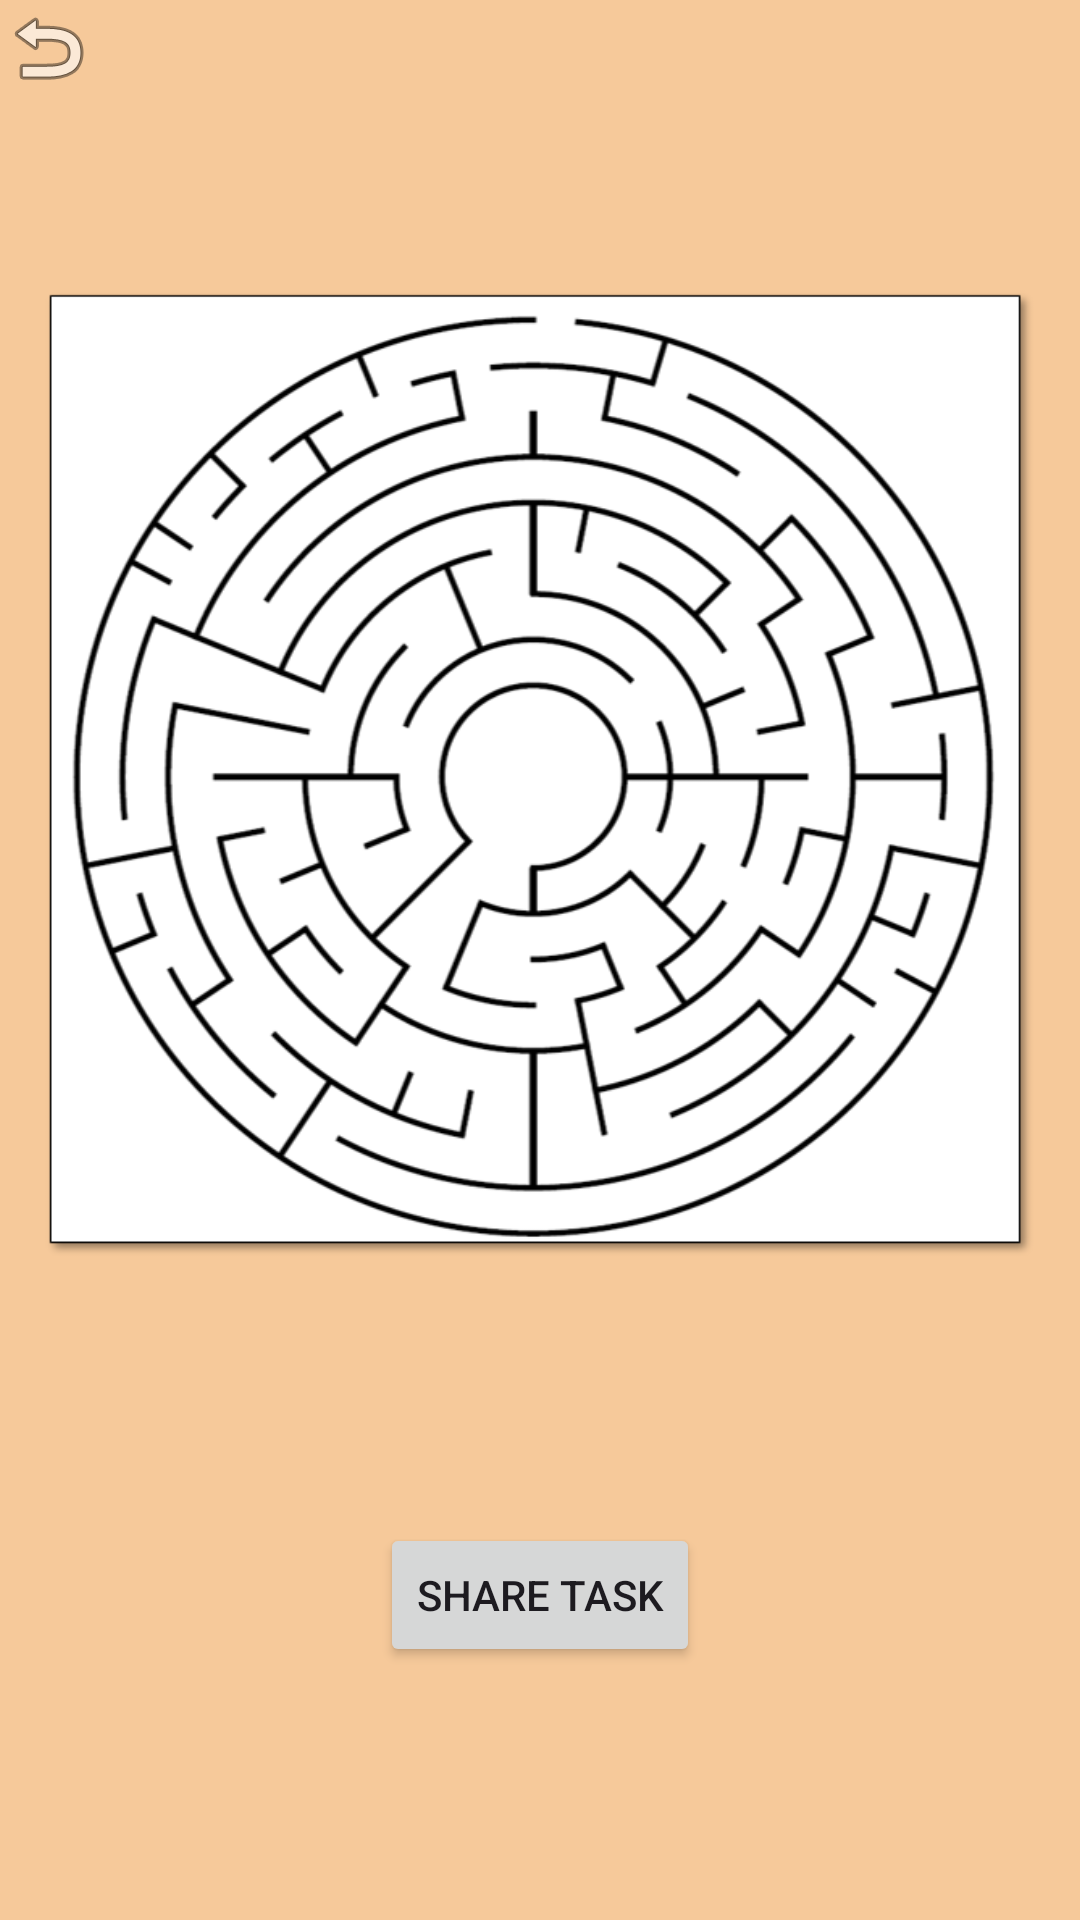

Where icons sit on this 1080x1920 app screen, as (x1, y1, x2, y2):
revert: (15, 17, 84, 80)
